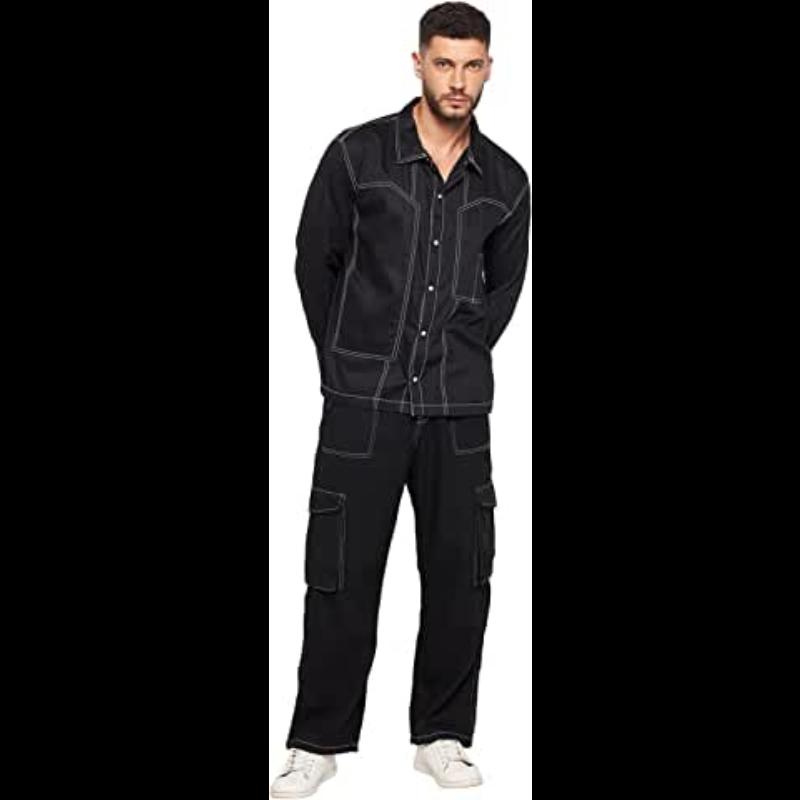Jeans: (302, 406, 496, 748)
shirt: (278, 104, 532, 420)
